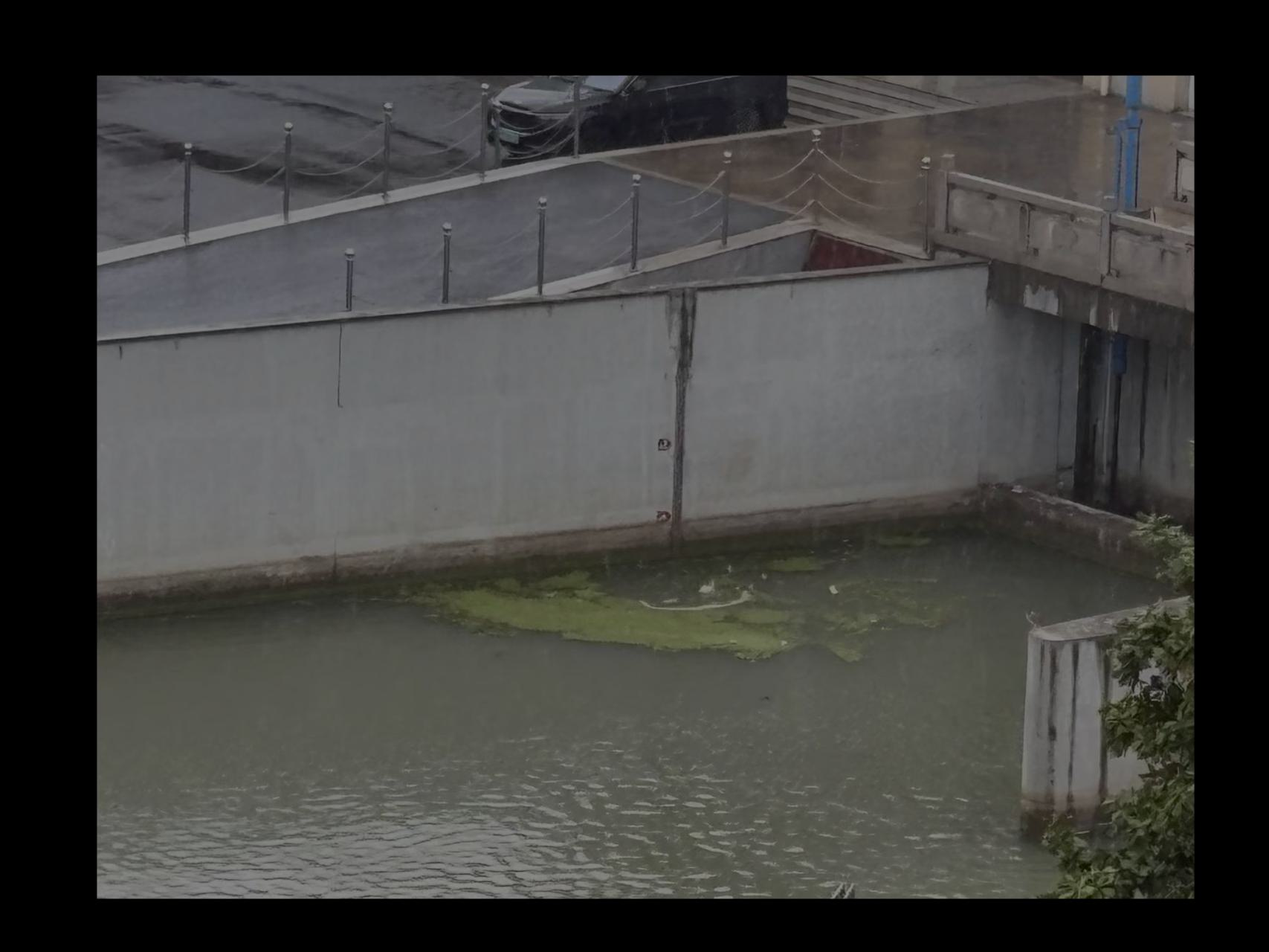Other: (558, 597, 640, 641), (639, 611, 726, 650), (474, 599, 552, 628), (726, 628, 794, 659), (755, 549, 834, 572), (819, 611, 883, 632), (735, 608, 796, 624), (872, 533, 930, 547)
Plastic wastes: (698, 579, 720, 594), (826, 583, 839, 596)
